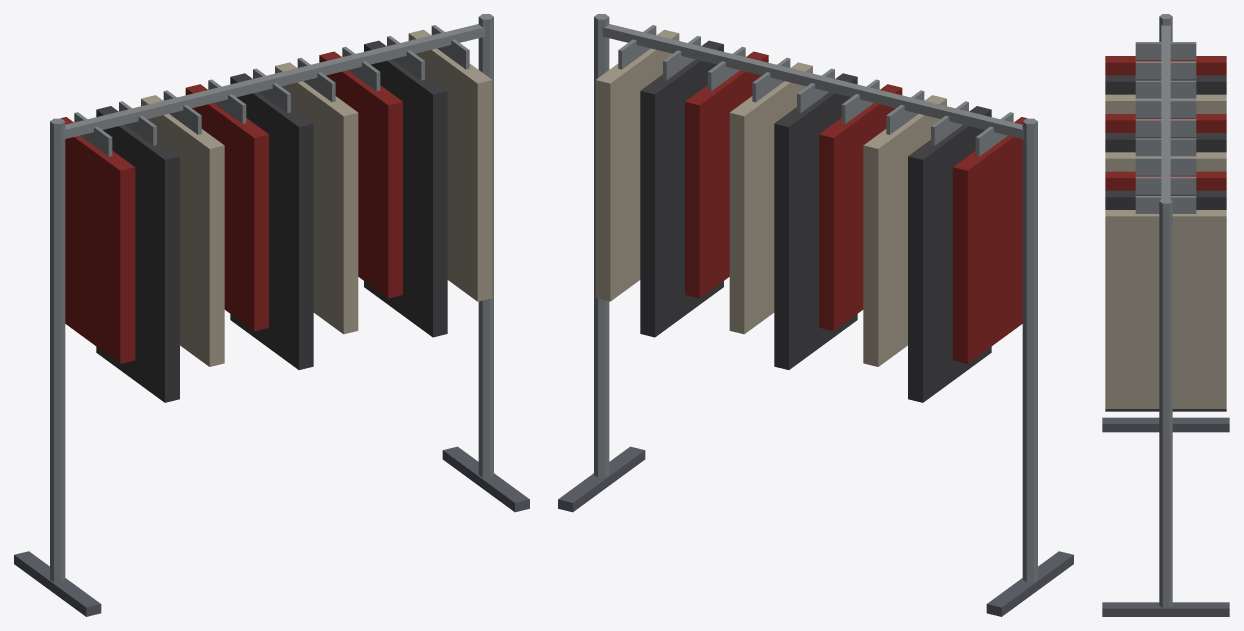
File: clothes_rail.glb
3 views of the same model, side by side, from view 1: azimuth 30°, elevation 25°; view 2: azimuth 150°, elevation 25°; view 3: azimuth 270°, elevation 25° (orthographic). The views are drawn at different scales.
Visible parts, largest first — view 1: clothes_rail; view 2: clothes_rail; view 3: clothes_rail.
Boxes of the visible parts, box(x1,y1,x2,y2) form: clothes_rail: box(14, 14, 529, 616); clothes_rail: box(558, 14, 1073, 616); clothes_rail: box(1102, 14, 1229, 616).
Bounding box in the file's own units: 1.49 × 1.5 × 0.42.
